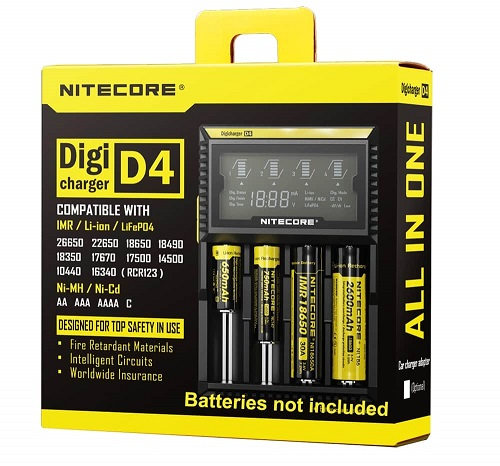Battery: (328, 243, 368, 387), (287, 241, 321, 386), (252, 244, 282, 345), (208, 243, 244, 314)
